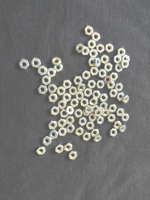nut: (19, 59, 30, 70), (31, 58, 41, 69), (96, 43, 106, 54), (37, 66, 48, 76), (62, 79, 73, 89), (54, 143, 64, 154), (50, 105, 60, 116), (47, 130, 59, 139), (75, 43, 85, 53), (42, 75, 52, 85), (47, 83, 57, 93), (42, 136, 52, 146), (73, 76, 83, 86), (38, 86, 49, 95), (92, 31, 101, 42), (74, 127, 85, 136), (88, 38, 96, 50), (106, 43, 115, 53), (107, 114, 117, 123), (82, 70, 91, 80), (82, 133, 92, 142), (48, 121, 58, 130), (48, 94, 58, 103), (57, 100, 67, 109), (98, 68, 107, 78), (101, 54, 110, 64), (104, 74, 113, 84), (70, 99, 80, 108), (66, 124, 75, 134), (58, 128, 68, 137), (79, 117, 88, 127), (36, 147, 47, 155), (57, 86, 65, 97), (65, 141, 73, 152), (69, 152, 78, 161), (85, 26, 94, 35), (47, 68, 56, 77), (90, 67, 99, 76), (84, 88, 93, 97), (88, 80, 97, 89), (109, 89, 118, 98), (60, 110, 69, 119), (109, 128, 118, 137), (100, 93, 109, 102), (86, 122, 95, 131), (83, 108, 92, 117), (52, 58, 62, 66), (70, 86, 78, 96), (63, 93, 71, 103), (114, 54, 122, 64), (58, 119, 66, 129), (75, 109, 83, 119), (92, 104, 100, 114), (89, 50, 99, 58), (118, 48, 126, 57), (122, 60, 130, 69), (105, 63, 113, 72), (54, 65, 63, 73), (81, 47, 90, 55), (78, 83, 86, 92), (115, 83, 123, 92), (110, 73, 119, 81), (123, 95, 131, 104), (117, 93, 126, 101), (66, 116, 74, 125), (81, 98, 89, 107), (100, 102, 109, 110), (107, 114, 116, 122), (109, 104, 118, 112), (90, 98, 99, 106), (94, 109, 103, 117), (88, 114, 97, 122), (86, 105, 93, 115), (122, 114, 130, 122), (97, 81, 105, 89), (76, 92, 84, 100), (107, 82, 115, 90), (67, 107, 75, 115), (118, 109, 126, 117), (97, 117, 105, 125), (92, 129, 100, 137), (89, 58, 96, 67), (123, 54, 130, 63), (93, 91, 102, 98), (116, 64, 123, 72), (114, 121, 122, 128), (95, 58, 101, 67), (120, 125, 127, 132), (103, 110, 110, 117), (94, 137, 102, 142)
